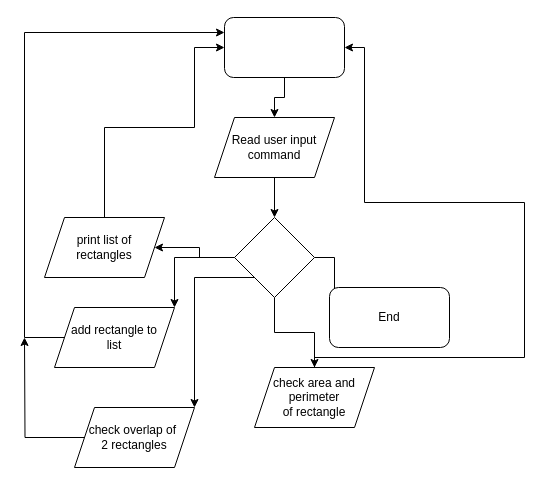
This 550x485 diagram has some shape labels left out. Here are the shapes that lost their labels. From the top down, the centre of each, then its label:
At point 284,47: "Start".
At point 274,257: "Check input (A, P, D, O, Q)".
